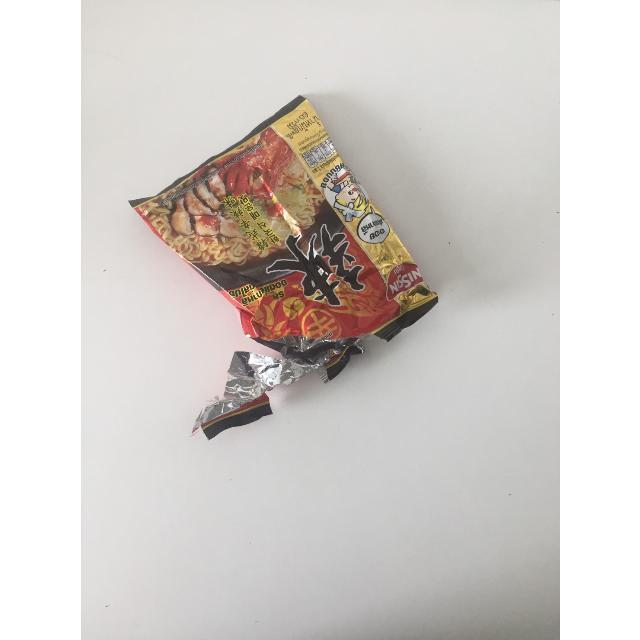Paquete de plastico: (140, 100, 437, 438)
